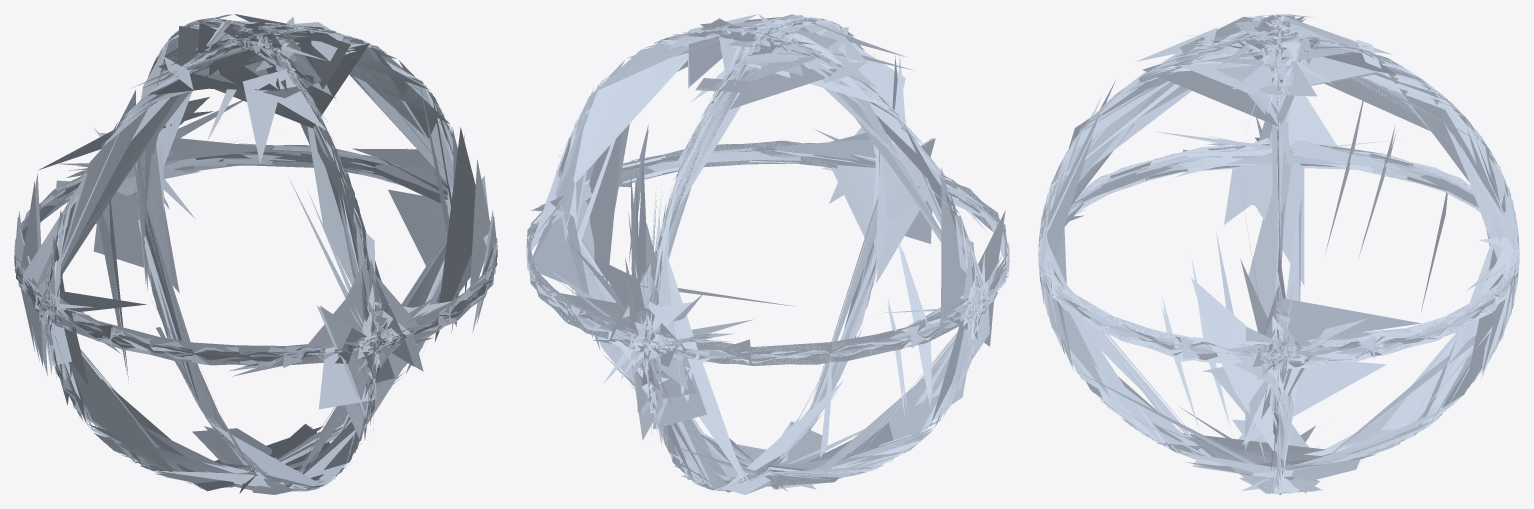
3 renders of one model, left to right at view 1: azimuth 30°, elevation 25°; view 2: azimuth 150°, elevation 25°; view 3: azimuth 270°, elevation 25°, orthographic.
Parts seen in each view (by area): view 1: 2A-14-structural; view 2: 2A-14-structural; view 3: 2A-14-structural.
Boxes of the visible parts, x1,y1,x2,y2 form: 2A-14-structural: (14, 14, 497, 494); 2A-14-structural: (526, 14, 1009, 494); 2A-14-structural: (1038, 14, 1519, 494).
Bounding box in the file's own units: 2 × 2 × 2.
